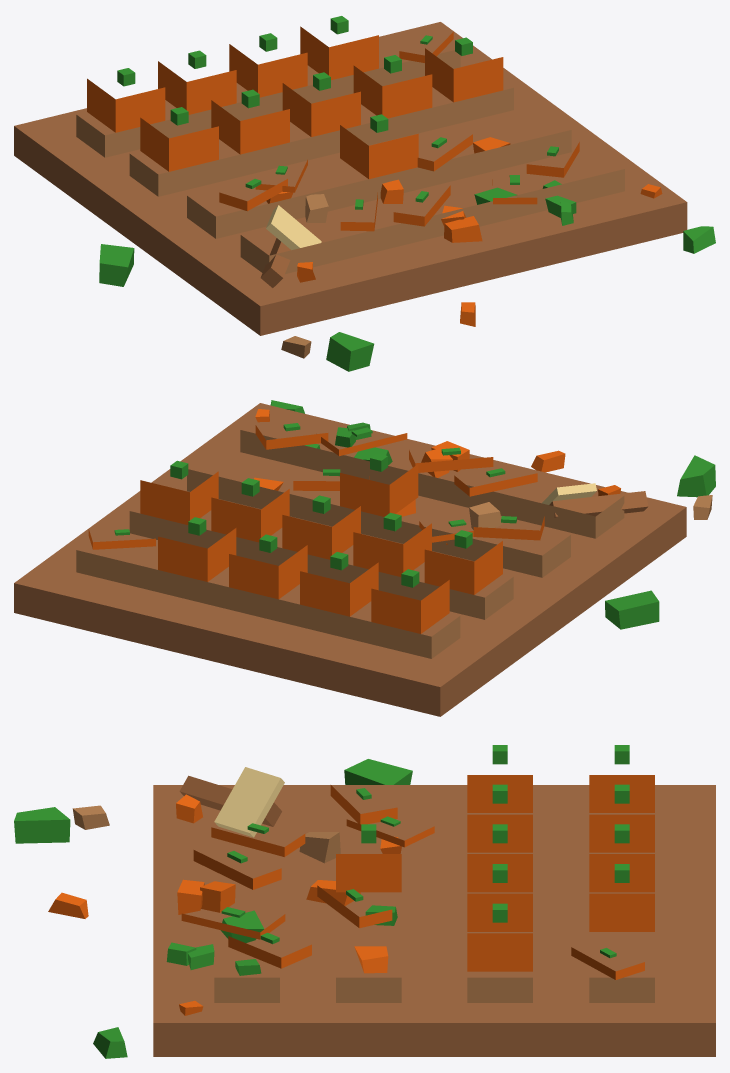
The model's file is field_t1_v3_dmg1.glb.
3 views of the same model, one above another, from view 1: azimuth 30°, elevation 25°; view 2: azimuth 150°, elevation 25°; view 3: azimuth 270°, elevation 25° (orthographic). The views are drawn at different scales.
Visible parts, largest first — view 1: field_t1_v3_dmg1; view 2: field_t1_v3_dmg1; view 3: field_t1_v3_dmg1.
Boxes of the visible parts, bbox=[...] form: field_t1_v3_dmg1: bbox=[14, 16, 715, 371]; field_t1_v3_dmg1: bbox=[14, 400, 715, 716]; field_t1_v3_dmg1: bbox=[14, 745, 715, 1058].
Bounding box in the file's own units: 0.7049 × 0.13 × 0.7484.
Materials: 1 (1 with a texture image).
